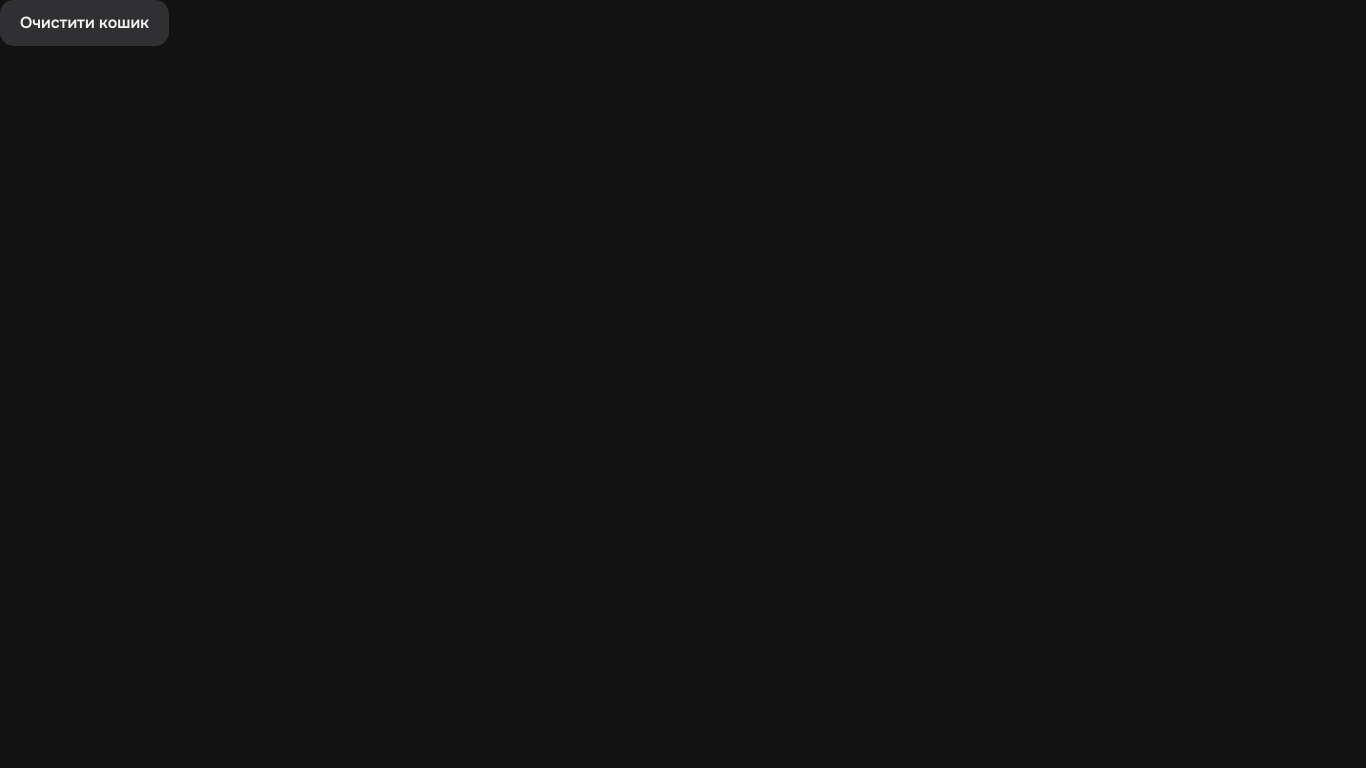
Scenario: AlertDialog › підтвердження викликає дію і закриває вікно
What coordinates should you click on to do the following:
click the button "Очистити кошик"
I would click on:
 (84, 23)
Its box is [0, 0, 169, 46].
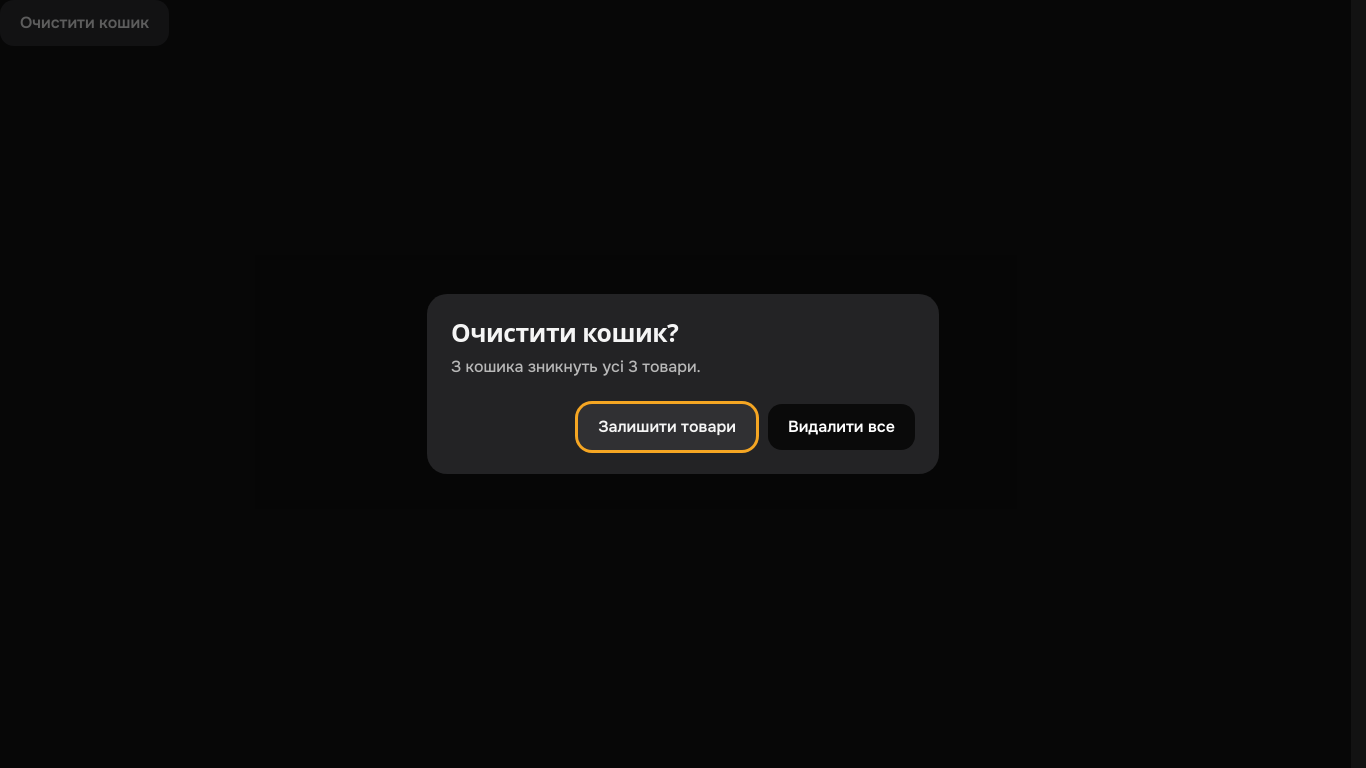
What coordinates should you click on to do the following:
click the button "Видалити все"
I would click on:
 (841, 427)
Its box is [768, 404, 915, 450].
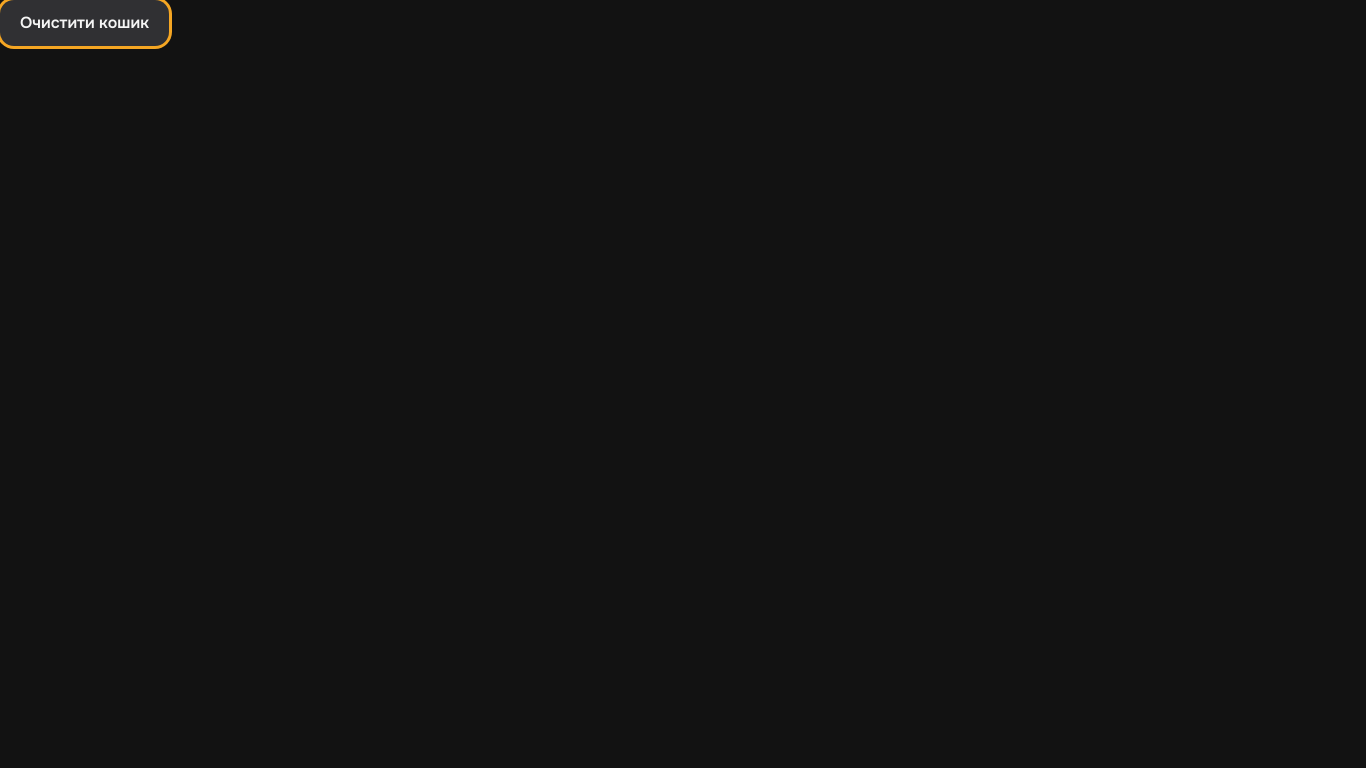
Expected: the dialog is gone
